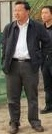boots: (9, 122, 19, 133), (32, 124, 44, 131)
